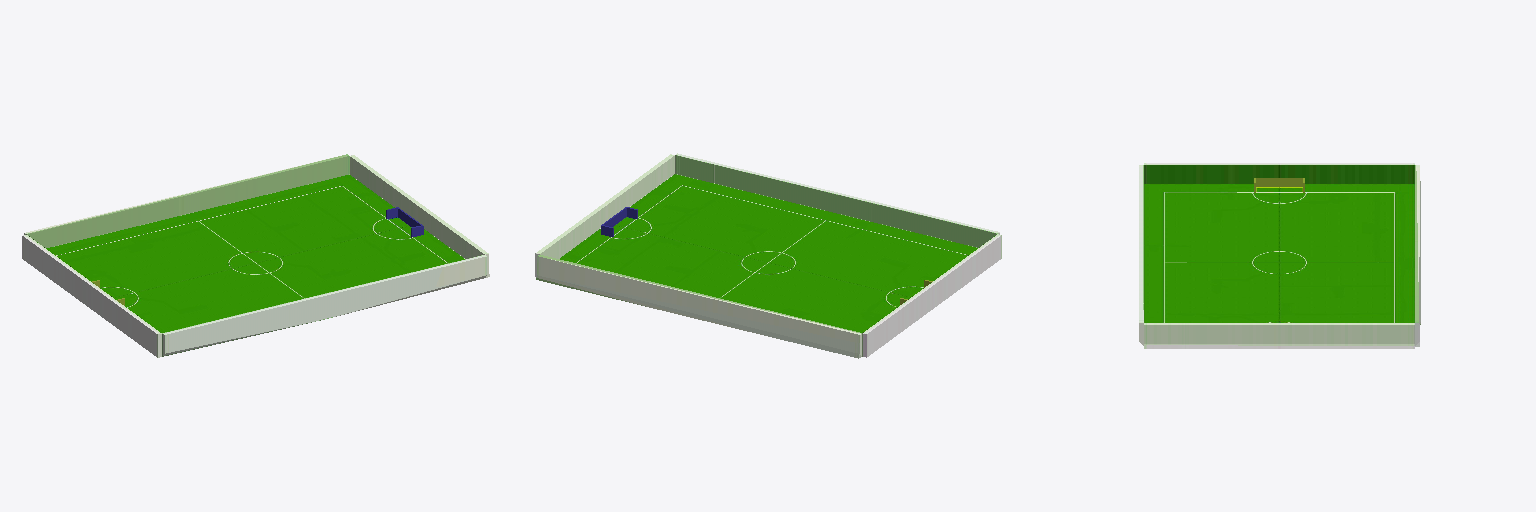
3 views of the same model, side by side, from view 1: azimuth 30°, elevation 25°; view 2: azimuth 150°, elevation 25°; view 3: azimuth 270°, elevation 25° (orthographic).
Visible parts, largest first — view 1: Cube_Cube_Material_cleanfield.jpg; view 2: Cube_Cube_Material_cleanfield.jpg; view 3: Cube_Cube_Material_cleanfield.jpg.
Boxes of the visible parts, <box> form: Cube_Cube_Material_cleanfield.jpg: <box>22,154,489,357</box>; Cube_Cube_Material_cleanfield.jpg: <box>535,153,1001,358</box>; Cube_Cube_Material_cleanfield.jpg: <box>1139,163,1420,348</box>.
Bounding box in the file's own units: 5.67 × 0.3875 × 4.15.
3 materials, 1 textured.